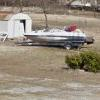Boat: (24, 24, 100, 53)
